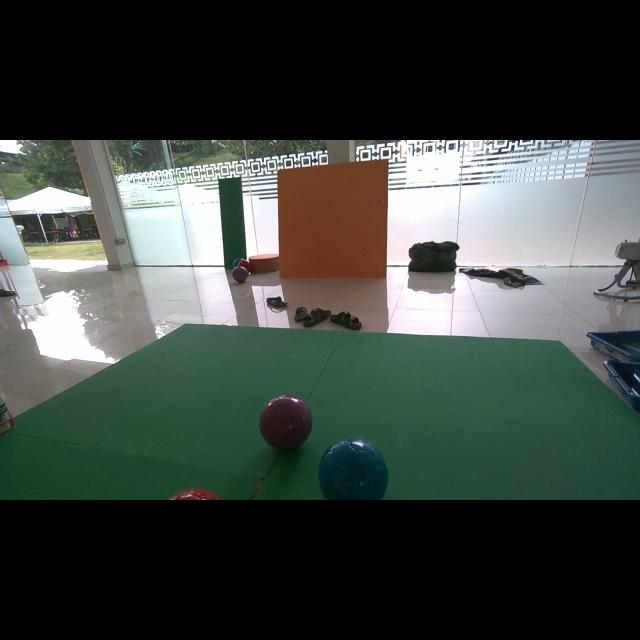B: (319, 438, 389, 499)
P: (259, 394, 312, 450)
